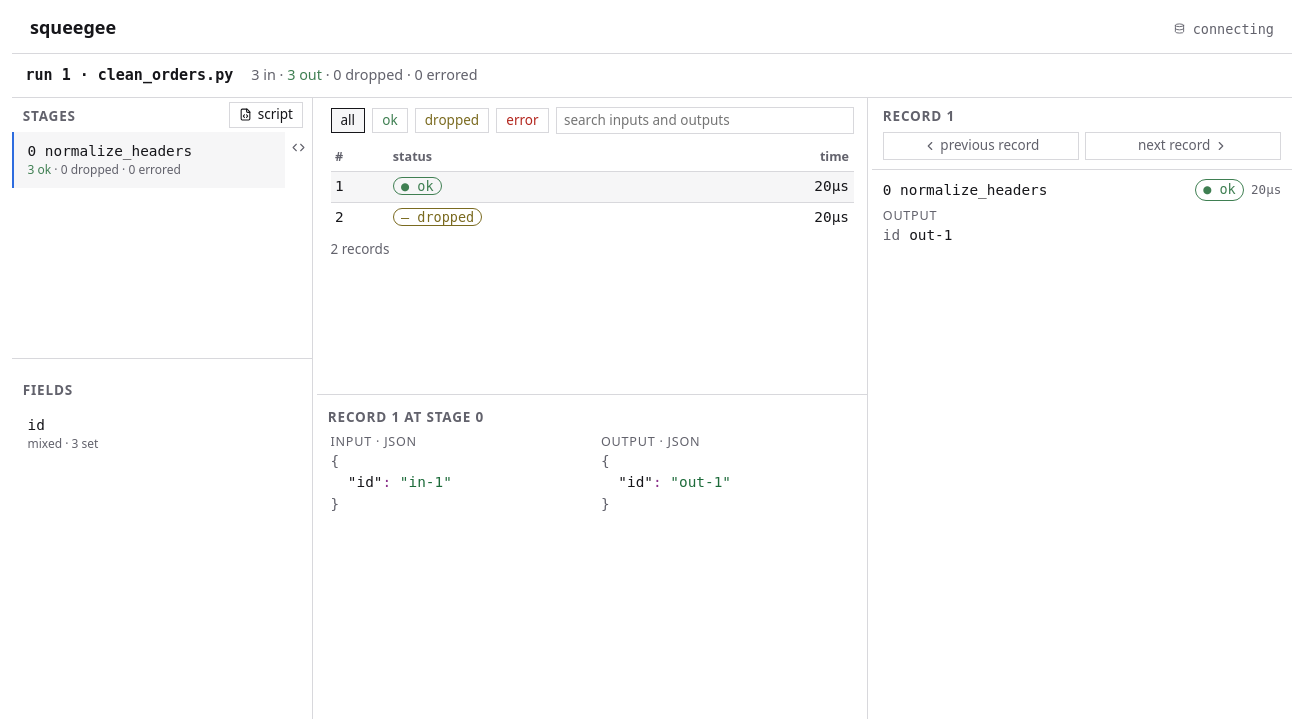
Test: a filter that lists nothing returns the trace to its placeholder
Expected: the heading "record 1" is shown, left=883, top=107, right=955, bottom=125
Step 1. Click the button "error" → (522, 121), box left=496, top=108, right=549, bottom=134
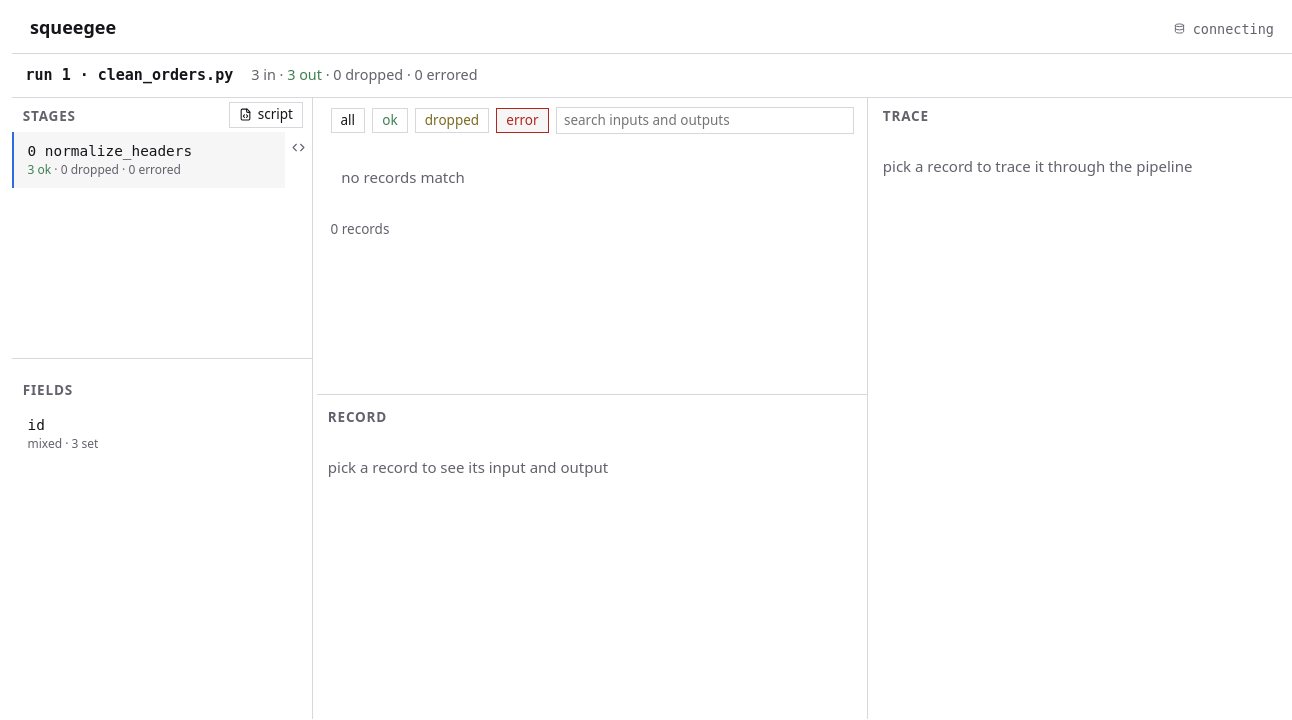
Expected: the text "pick a record to trace it through the pipeline" is shown, left=883, top=156, right=1192, bottom=176
